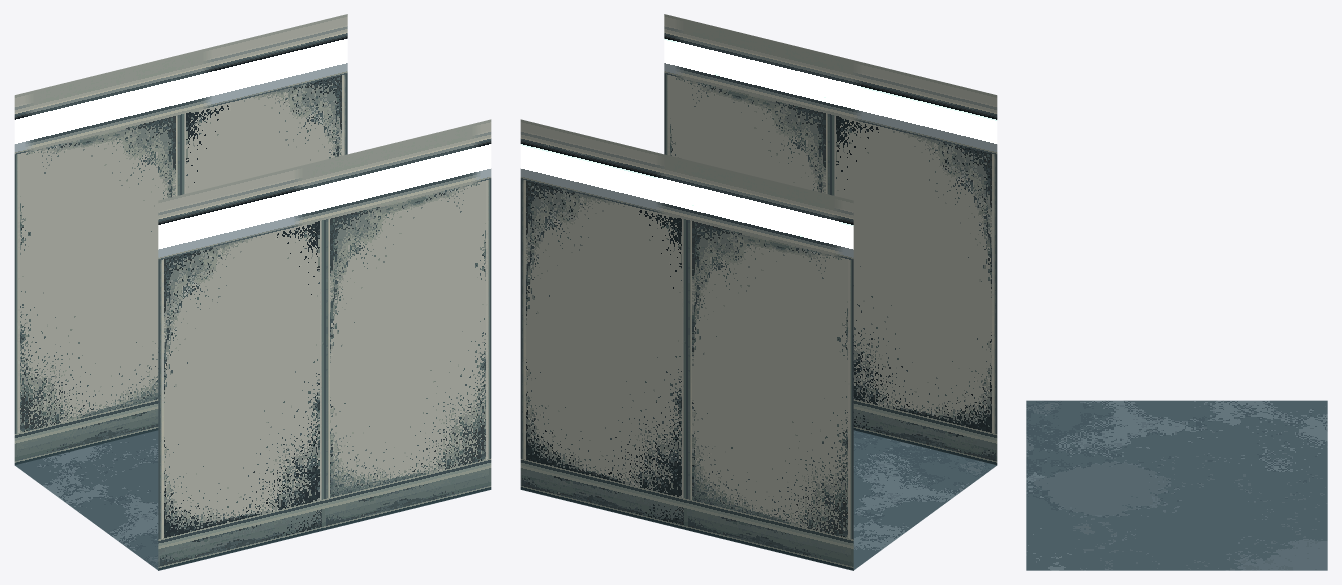
File: corridor_baked_v2.glb
3 views of the same model, side by side, from view 1: azimuth 30°, elevation 25°; view 2: azimuth 150°, elevation 25°; view 3: azimuth 270°, elevation 25° (orthographic). The views are drawn at different scales.
Visible parts, largest first — view 1: Room1_Exterior_Wall_Module, Wall_3p2m_TwoBays, Floor_3p2m_Unique; view 2: Wall_3p2m_TwoBays, Room1_Exterior_Wall_Module, Floor_3p2m_Unique; view 3: Floor_3p2m_Unique.
Boxes of the visible parts, x1,y1,x2,y2 form: Room1_Exterior_Wall_Module: [158, 119, 491, 570]; Wall_3p2m_TwoBays: [14, 14, 347, 464]; Floor_3p2m_Unique: [15, 430, 491, 570]; Wall_3p2m_TwoBays: [520, 119, 853, 570]; Room1_Exterior_Wall_Module: [664, 14, 997, 464]; Floor_3p2m_Unique: [520, 430, 996, 570]; Floor_3p2m_Unique: [1026, 400, 1327, 570].
Size of the model in its own units: 3.2 by 3.4 by 2.4.
2 materials, 2 textured.
